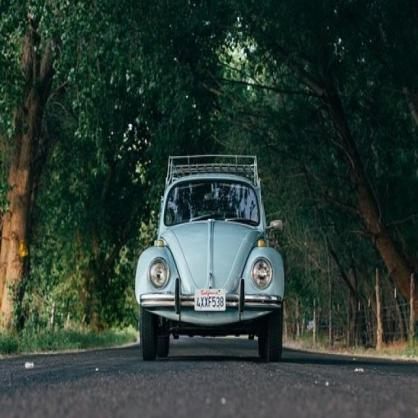car: (137, 154, 288, 363)
